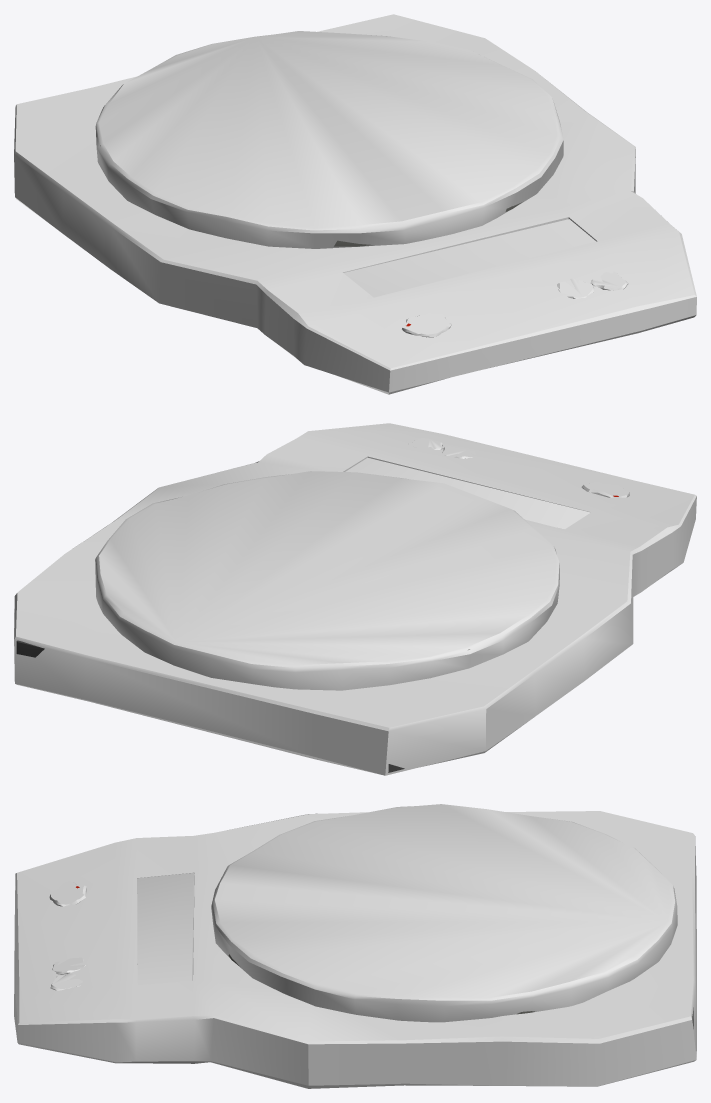
Rendered from scientificscale.fbx.
3 views of the same model, one above another, from view 1: azimuth 30°, elevation 25°; view 2: azimuth 150°, elevation 25°; view 3: azimuth 270°, elevation 25° (orthographic).
Parts seen in each view (by area): view 1: scale; view 2: scale; view 3: scale.
Part boxes in pixels (x1,y1,x2,y2): scale: (14, 14, 696, 394); scale: (14, 423, 696, 775); scale: (14, 804, 696, 1088).
Size of the model in its own units: 2.55 by 0.3829 by 3.19.
Materials: 6 (3 with a texture image).
